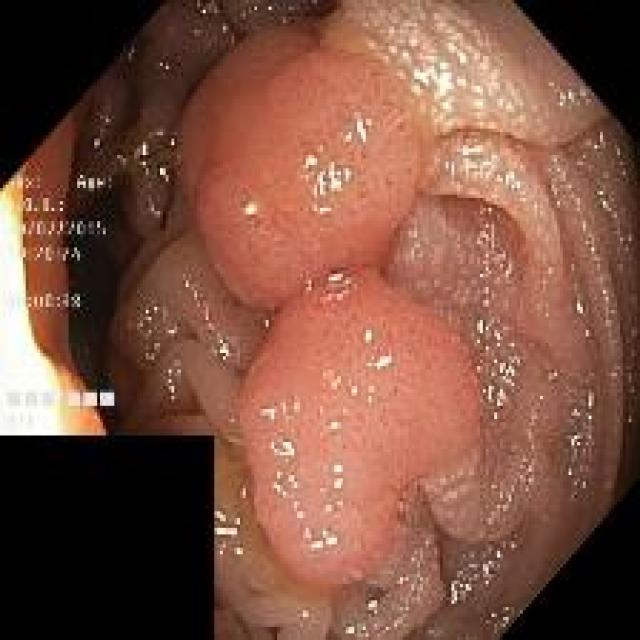Polyps: (240, 271, 478, 588), (176, 23, 432, 310)
